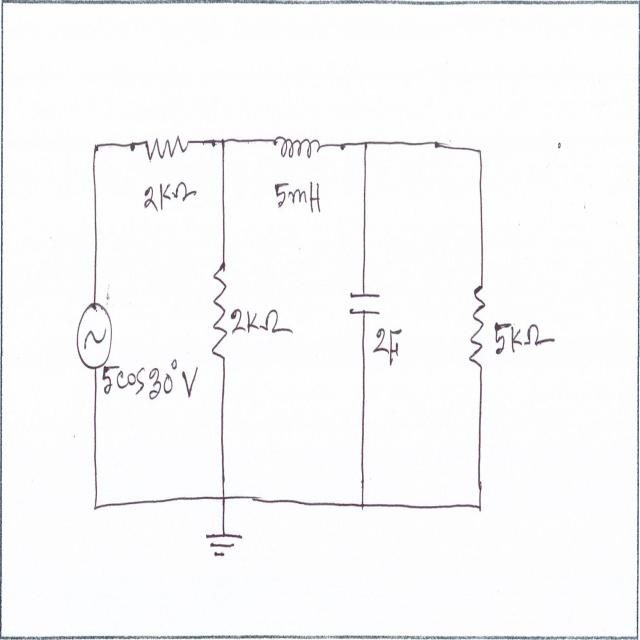ac_current: (75, 295, 115, 371)
capacitor: (348, 284, 384, 322)
ground: (201, 526, 246, 566)
inductor: (272, 123, 324, 169)
resistor: (466, 282, 490, 378), (210, 259, 230, 370), (142, 129, 188, 166)
